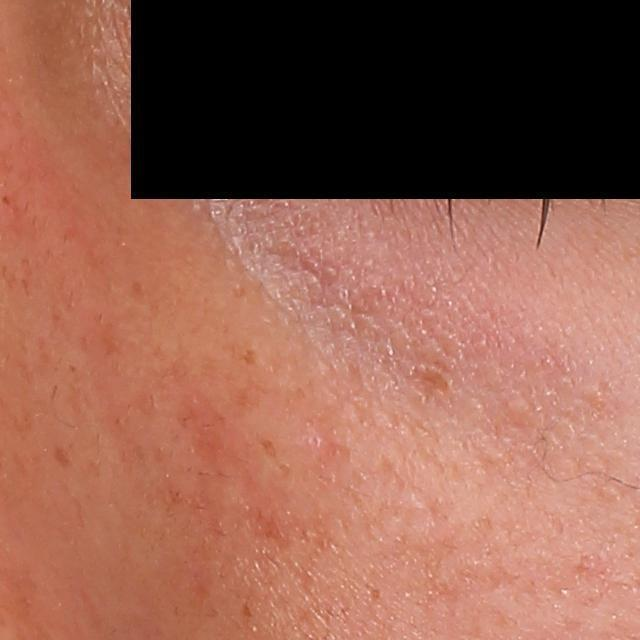melasma: (233, 499, 350, 562), (53, 444, 75, 473), (241, 346, 259, 365)
